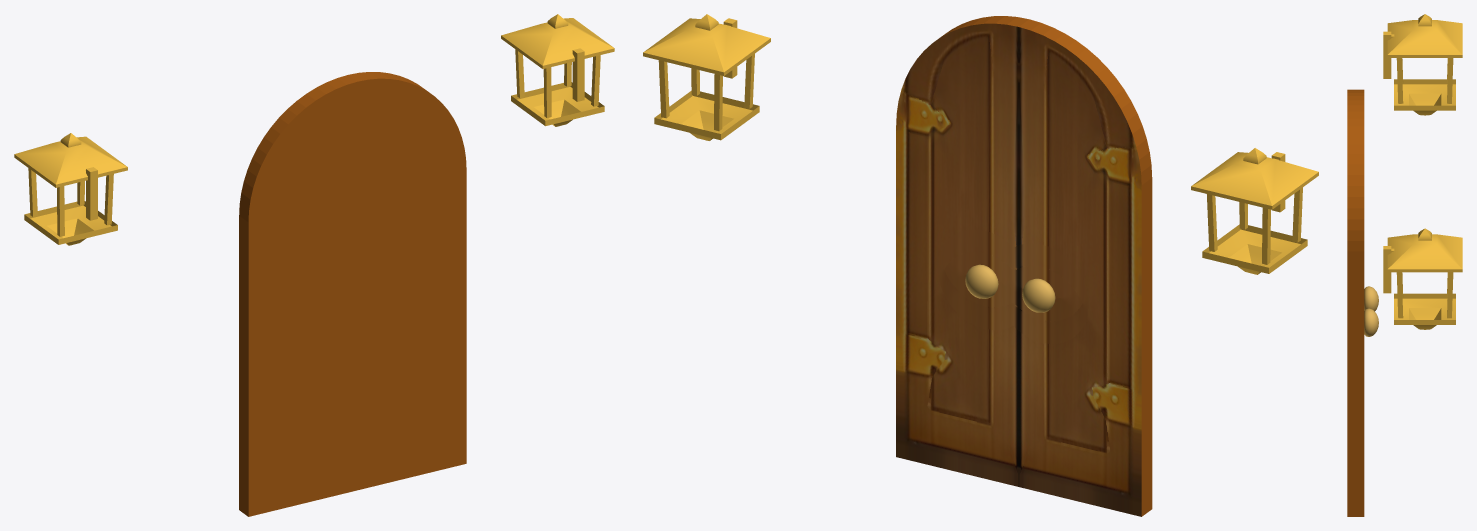
The model's file is HaloDomeHouse_12_deco.glb.
The picture shows the model from 3 angles, left to right: view 1: azimuth 30°, elevation 25°; view 2: azimuth 150°, elevation 25°; view 3: azimuth 270°, elevation 25°; orthographic projection. The views are drawn at different scales.
Parts seen in each view (by area): view 1: HaloDomeHouse_12_Leaf0, HaloDomeHouse_12_Leaf1, HaloDomeHouse_12_Lantern1, HaloDomeHouse_12_Lantern0; view 2: HaloDomeHouse_12_Leaf0, HaloDomeHouse_12_Leaf1, HaloDomeHouse_12_Lantern0, HaloDomeHouse_12_Lantern1, HaloDomeHouse_12_Knob0, HaloDomeHouse_12_Knob1; view 3: HaloDomeHouse_12_Leaf1, HaloDomeHouse_12_Lantern1, HaloDomeHouse_12_Lantern0, HaloDomeHouse_12_Knob1, HaloDomeHouse_12_Knob0, HaloDomeHouse_12_Leaf0.
Boxes of the visible parts, x1,y1,x2,y2 form: HaloDomeHouse_12_Leaf0: [239, 75, 357, 516]; HaloDomeHouse_12_Leaf1: [348, 72, 466, 489]; HaloDomeHouse_12_Lantern1: [501, 14, 614, 126]; HaloDomeHouse_12_Lantern0: [14, 133, 127, 245]; HaloDomeHouse_12_Leaf0: [1019, 19, 1152, 516]; HaloDomeHouse_12_Leaf1: [896, 16, 1028, 486]; HaloDomeHouse_12_Lantern0: [1191, 148, 1318, 274]; HaloDomeHouse_12_Lantern1: [643, 14, 770, 140]; HaloDomeHouse_12_Knob0: [1022, 278, 1055, 312]; HaloDomeHouse_12_Knob1: [965, 264, 998, 298]; HaloDomeHouse_12_Leaf1: [1347, 100, 1364, 516]; HaloDomeHouse_12_Lantern1: [1383, 228, 1462, 329]; HaloDomeHouse_12_Lantern0: [1383, 14, 1462, 115]; HaloDomeHouse_12_Knob1: [1364, 308, 1378, 336]; HaloDomeHouse_12_Knob0: [1364, 286, 1378, 311]; HaloDomeHouse_12_Leaf0: [1347, 89, 1364, 100].
Bounding box in the file's own units: 11.02 × 7.7 × 2.18.
Materials: 3 (1 with a texture image).
